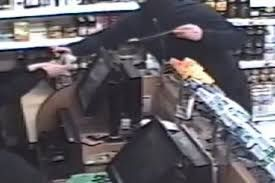gun: (131, 22, 208, 47)
